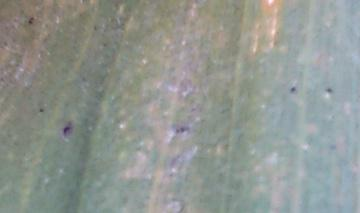tarspot: (61, 119, 73, 140), (172, 125, 191, 134), (323, 85, 335, 94), (26, 16, 35, 24), (289, 85, 297, 94), (37, 107, 45, 113)
